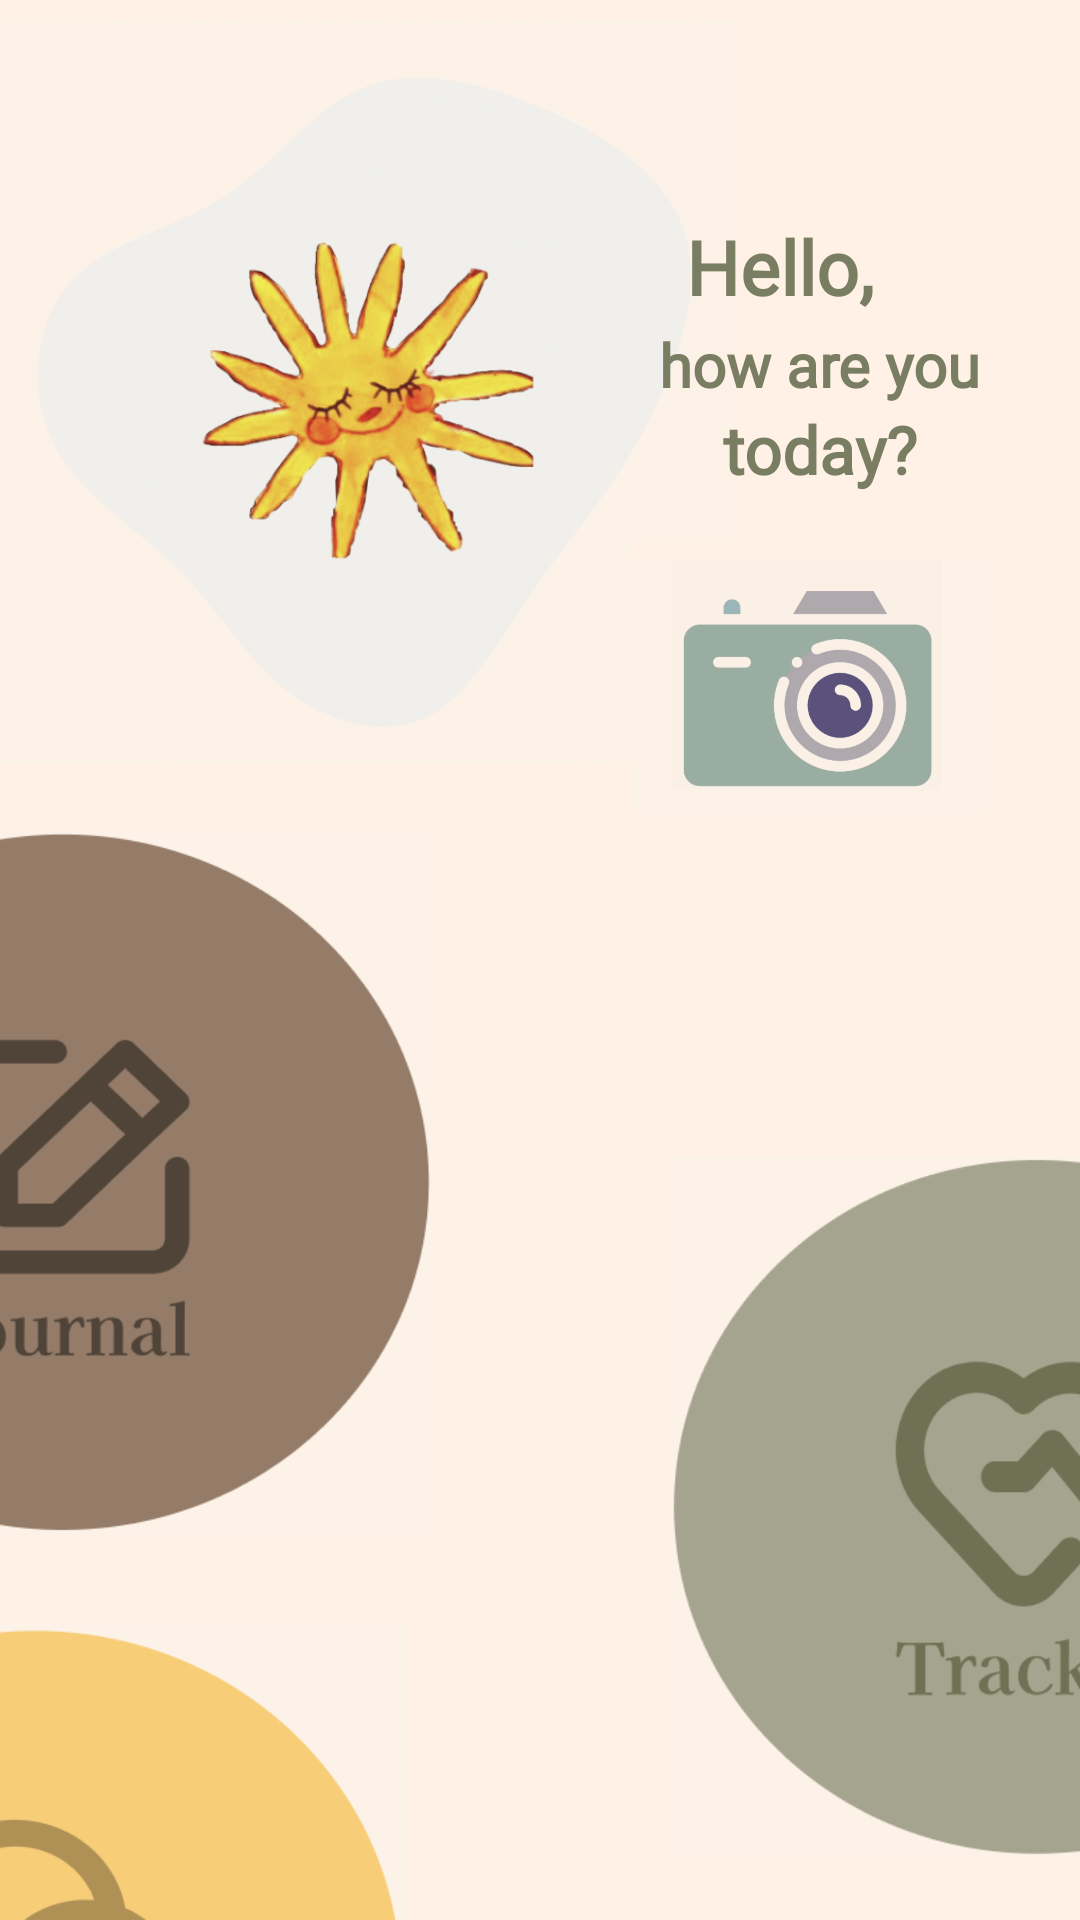

Point at icon controls on the screen. Image size 1080px x 1920px, points as (x=x, y=y).
cameraicon: (x=808, y=688)
